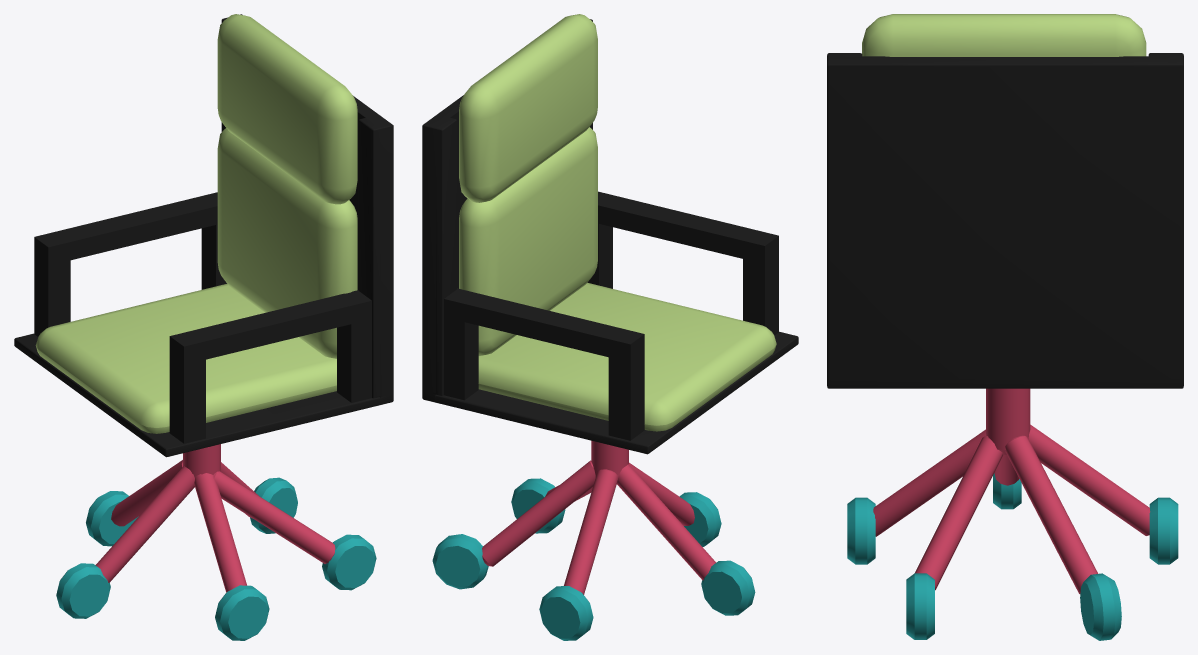
Rendered from Chair.FBX.
The picture shows the model from 3 angles, left to right: view 1: azimuth 30°, elevation 25°; view 2: azimuth 150°, elevation 25°; view 3: azimuth 270°, elevation 25°; orthographic projection. The views are drawn at different scales.
Parts seen in each view (by area): view 1: ChamferBox001, ChamferBox002, ChamferBox003, Box001, C-Ext002, C-Ext001, ChamferCyl009, ChamferCyl006, ChamferCyl010, wheel5, wheel1, wheel4 (+4 smaller); view 2: ChamferBox001, ChamferBox002, ChamferBox003, Box001, C-Ext001, C-Ext002, ChamferCyl007, ChamferCyl006, ChamferCyl008, wheel3, wheel2, wheel1 (+4 smaller); view 3: Box001, ChamferBox003, ChamferCyl007, ChamferCyl009, ChamferCyl008, ChamferCyl010, ChamferCyl011, wheel3, wheel2, wheel4, wheel5, wheel1.
Part boxes in pixels (left/top/right/bottom): ChamferBox001: left=35, top=283, right=336, bottom=433; ChamferBox002: left=217, top=128, right=357, bottom=358; ChamferBox003: left=217, top=14, right=357, bottom=204; Box001: left=14, top=14, right=393, bottom=457; C-Ext002: left=169, top=290, right=371, bottom=443; C-Ext001: left=34, top=192, right=226, bottom=336; ChamferCyl009: left=213, top=471, right=335, bottom=563; ChamferCyl006: left=95, top=466, right=194, bottom=582; ChamferCyl010: left=194, top=473, right=246, bottom=592; wheel5: left=215, top=585, right=269, bottom=640; wheel1: left=56, top=563, right=110, bottom=618; wheel4: left=322, top=534, right=376, bottom=590; ChamferBox001: left=478, top=282, right=776, bottom=431; ChamferBox002: left=459, top=127, right=597, bottom=355; ChamferBox003: left=459, top=14, right=597, bottom=202; Box001: left=422, top=19, right=798, bottom=454; C-Ext001: left=444, top=288, right=644, bottom=440; C-Ext002: left=587, top=191, right=778, bottom=335; ChamferCyl007: left=482, top=460, right=595, bottom=566; ChamferCyl006: left=617, top=464, right=716, bottom=580; ChamferCyl008: left=564, top=469, right=618, bottom=594; wheel3: left=432, top=534, right=488, bottom=589; wheel2: left=539, top=586, right=593, bottom=640; wheel1: left=701, top=560, right=755, bottom=615; Box001: left=827, top=53, right=1183, bottom=388; ChamferBox003: left=862, top=14, right=1146, bottom=56; ChamferCyl007: left=1005, top=435, right=1098, bottom=593; ChamferCyl009: left=915, top=436, right=1002, bottom=590; ChamferCyl008: left=1028, top=424, right=1150, bottom=535; ChamferCyl010: left=873, top=429, right=986, bottom=536; ChamferCyl011: left=986, top=388, right=1030, bottom=454; wheel3: left=1080, top=573, right=1121, bottom=640; wheel2: left=1149, top=497, right=1178, bottom=564; wheel4: left=906, top=573, right=934, bottom=639; wheel5: left=847, top=497, right=875, bottom=564; wheel1: left=993, top=473, right=1021, bottom=509.
Size of the model in its own units: 33.44 by 59.22 by 31.58.
